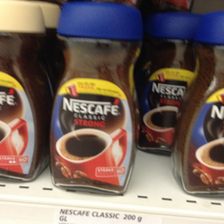coffee: (47, 4, 140, 193), (174, 15, 224, 196), (1, 1, 49, 183)
